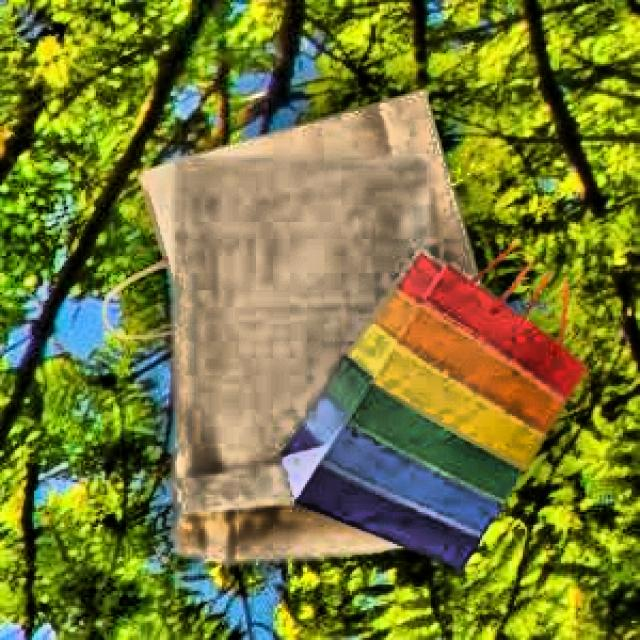Paper-bag: (123, 93, 511, 575), (276, 219, 608, 586)
